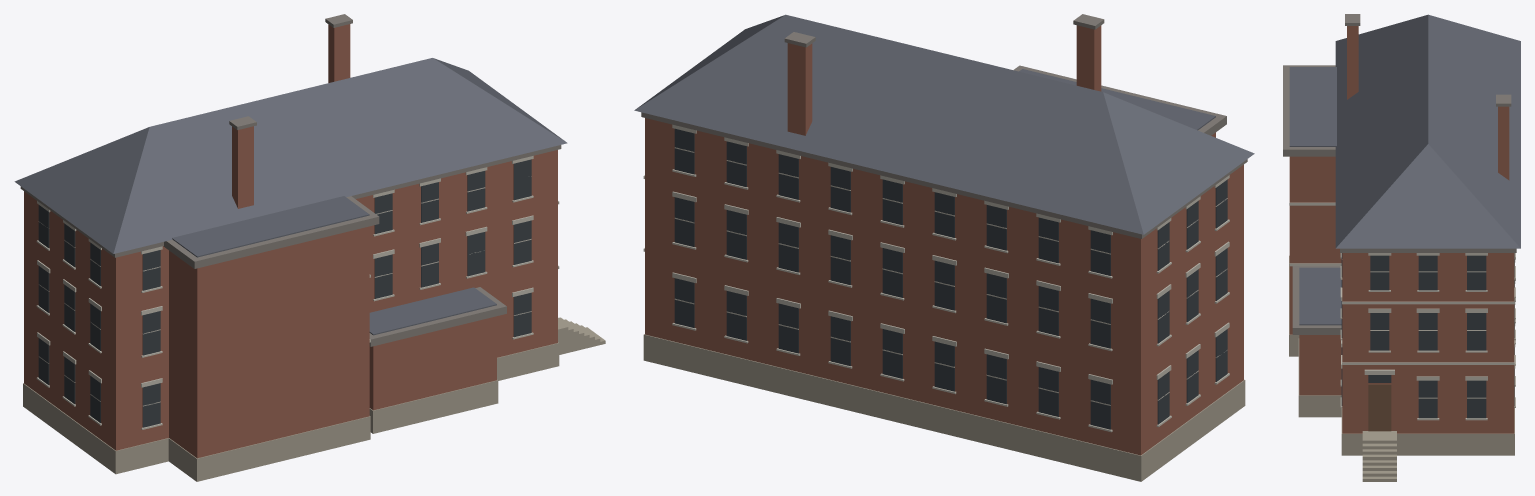
The model's file is house_1623_indiana__draft_1904.glb.
3 renders of one model, left to right at view 1: azimuth 30°, elevation 25°; view 2: azimuth 150°, elevation 25°; view 3: azimuth 270°, elevation 25°, orthographic. The views are drawn at different scales.
Visible parts, largest first — view 1: house_1623_indiana__draft_1904; view 2: house_1623_indiana__draft_1904; view 3: house_1623_indiana__draft_1904.
Boxes of the visible parts, x1,y1,x2,y2 form: house_1623_indiana__draft_1904: (14,14,605,481); house_1623_indiana__draft_1904: (634,14,1254,481); house_1623_indiana__draft_1904: (1283,14,1520,481).
Bounding box in the file's own units: 28.65 × 17.07 × 12.45.
